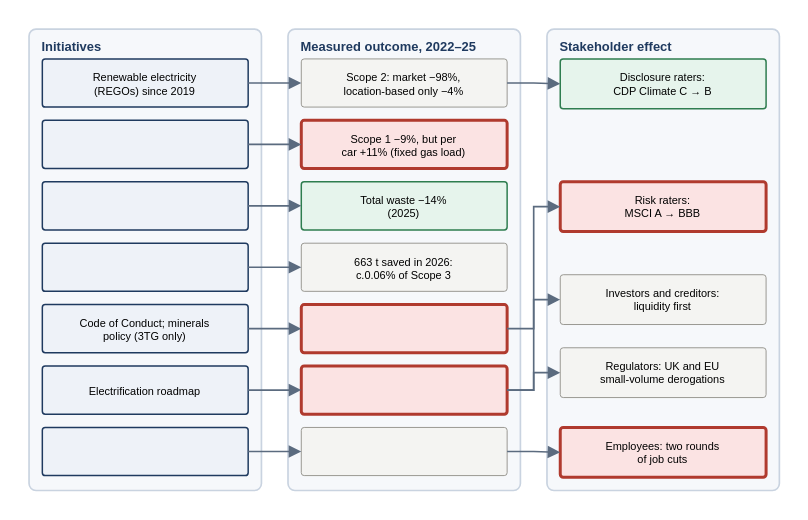
Image size: 808x520. Some labels were removed from this diagram. Each missing label, with the centre of its shape:
"DHL HVO and bio-LNG inbound fleet (2025)" belongs at pixel 144 266.
"First BEV 2025 → 2033–35; SBTi exit" belongs at pixel 403 389.
"ISO 50001; gas cuts at both plants (2025)" belongs at pixel 144 143.
"Lost-time accidents 13→7; apprentices 25→0" belongs at pixel 403 450.
"Safety programme; apprenticeships" belongs at pixel 144 451.
"Scope 3 excl. use phase +32%; no audit data" belongs at pixel 403 327.
"Zero waste to landfill (UK plants, 2024)" belongs at pixel 144 205.
